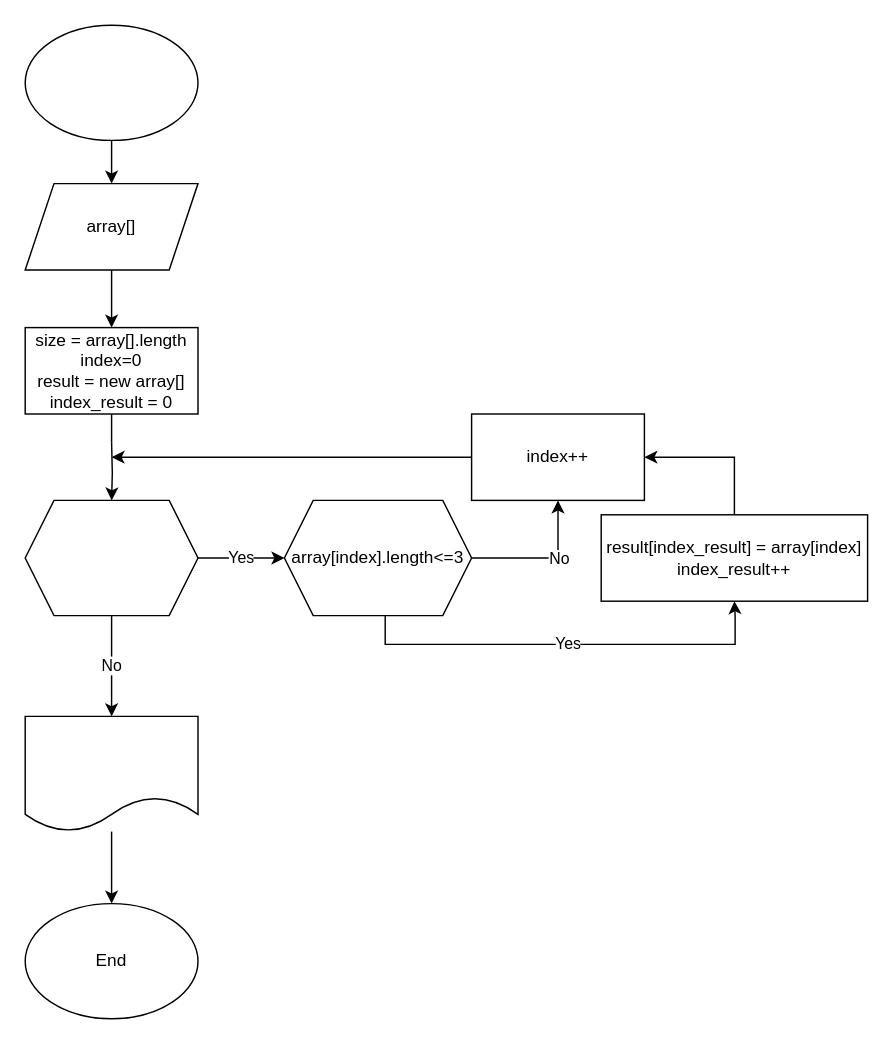
Some shapes in this 893 by 1044 pixel diagram are drawn without their labels. The shapes that lost their labels are listed below. From the top down, each one's centre as x and y in pixels, then its label:
At (x=111, y=82): "Begin".
At (x=111, y=557): "index<size".
At (x=111, y=773): "result[]".
